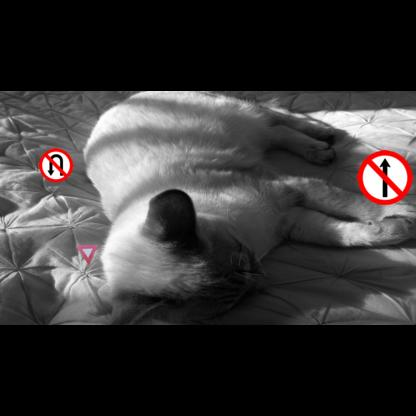R-3: (357, 150, 413, 205)
R-5a: (39, 148, 73, 182)
